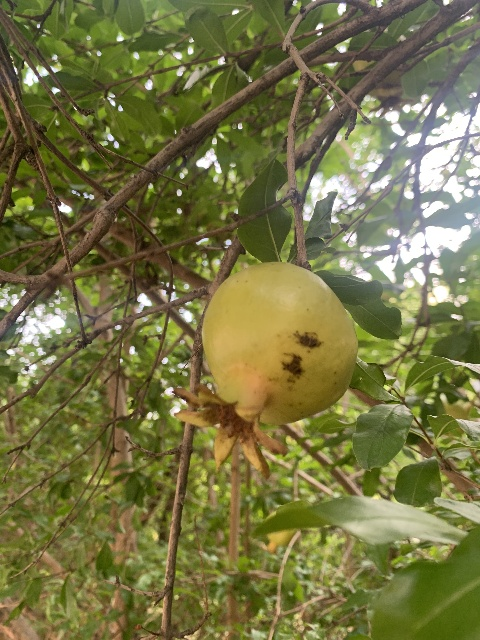mid-growth: (172, 261, 357, 478)
